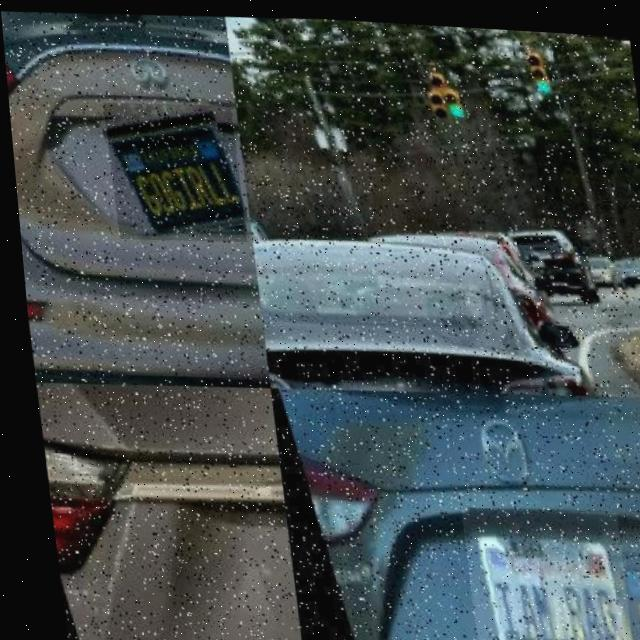LicensePlate: (451, 498, 624, 640), (101, 96, 243, 244)
